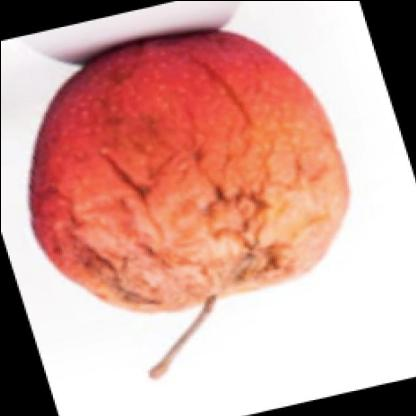defect: (34, 96, 334, 326)
